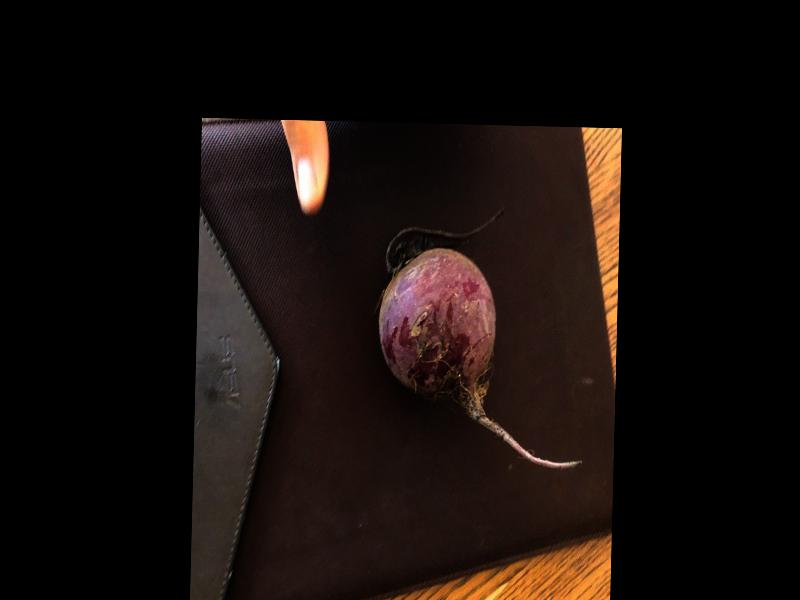Beet: (375, 206, 586, 469)
